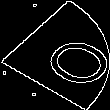O_NW: (8, 22, 102, 88)
